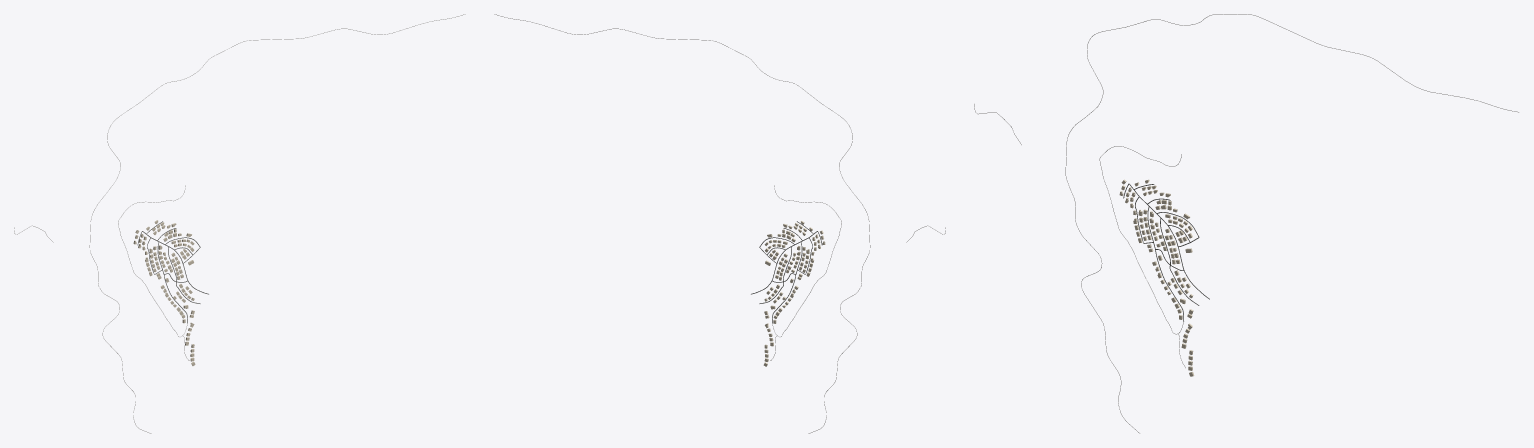
Rendered from historic-palestine-09_27_3506_3216.glb.
The picture shows the model from 3 angles, left to right: view 1: azimuth 30°, elevation 25°; view 2: azimuth 150°, elevation 25°; view 3: azimuth 330°, elevation 25°; orthographic projection. The views are drawn at different scales.
Visible parts, largest first — view 1: Road Military Road; view 2: Road Military Road; view 3: Road Military Road.
Part boxes in pixels (left/top/right/bottom): Road Military Road: left=89, top=14, right=465, bottom=433; Road Military Road: left=494, top=14, right=870, bottom=433; Road Military Road: left=1065, top=14, right=1518, bottom=433.
Bounding box in the file's own units: 2332 × 1825 × 9.09.
